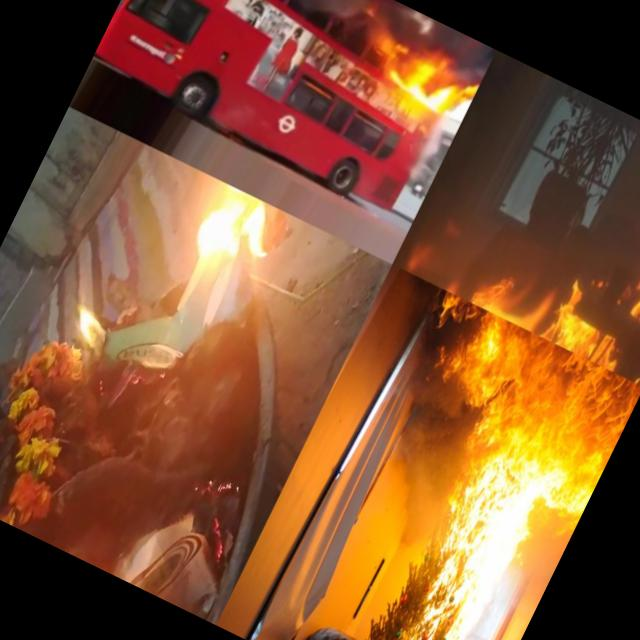fire: (395, 102, 640, 387), (348, 409, 577, 640), (394, 284, 640, 468), (380, 46, 464, 120), (541, 456, 603, 541)
smoke: (338, 373, 484, 554), (280, 0, 417, 62), (508, 526, 569, 612)
